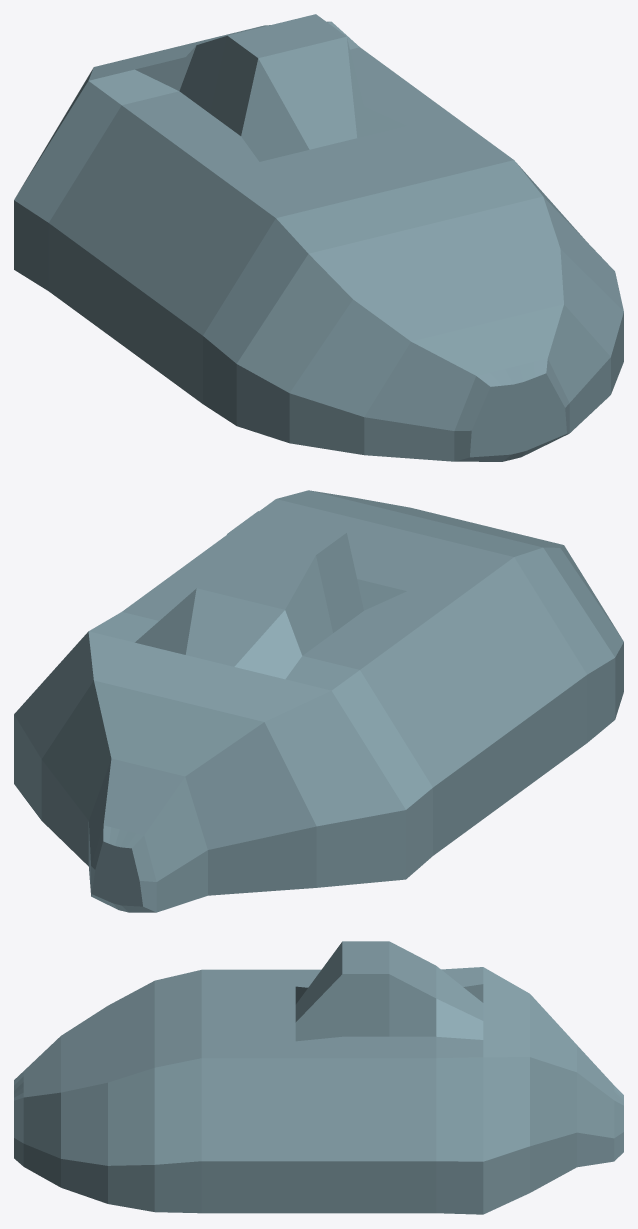
The model's file is ballard_medium_a.glb.
3 renders of one model, top to bottom at view 1: azimuth 30°, elevation 25°; view 2: azimuth 150°, elevation 25°; view 3: azimuth 270°, elevation 25°, orthographic. The views are drawn at different scales.
Parts seen in each view (by area): view 1: ballard_medium_a; view 2: ballard_medium_a; view 3: ballard_medium_a.
Boxes of the visible parts, x1,y1,x2,y2 form: ballard_medium_a: (14, 14, 623, 461); ballard_medium_a: (14, 490, 623, 912); ballard_medium_a: (14, 941, 623, 1214).
Size of the model in its own units: 3.5 by 2.21 by 6.2.
